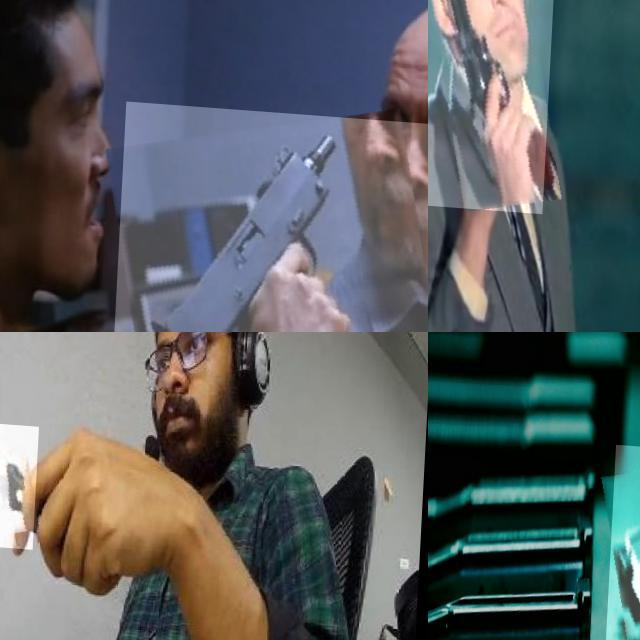-: (0, 414, 71, 545)
gun-knife-thesis - v11 Yolov5 augmented: (111, 98, 428, 332), (428, 0, 562, 208)
